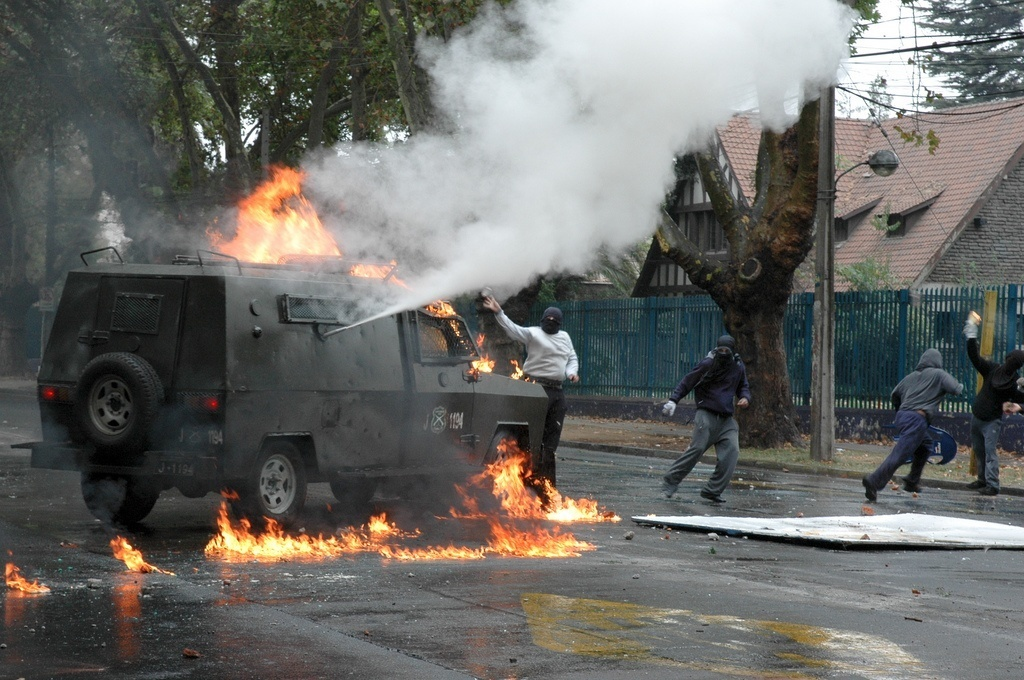fire: (193, 448, 613, 571), (207, 157, 408, 281), (421, 294, 528, 378), (110, 532, 163, 572), (2, 558, 48, 597)
